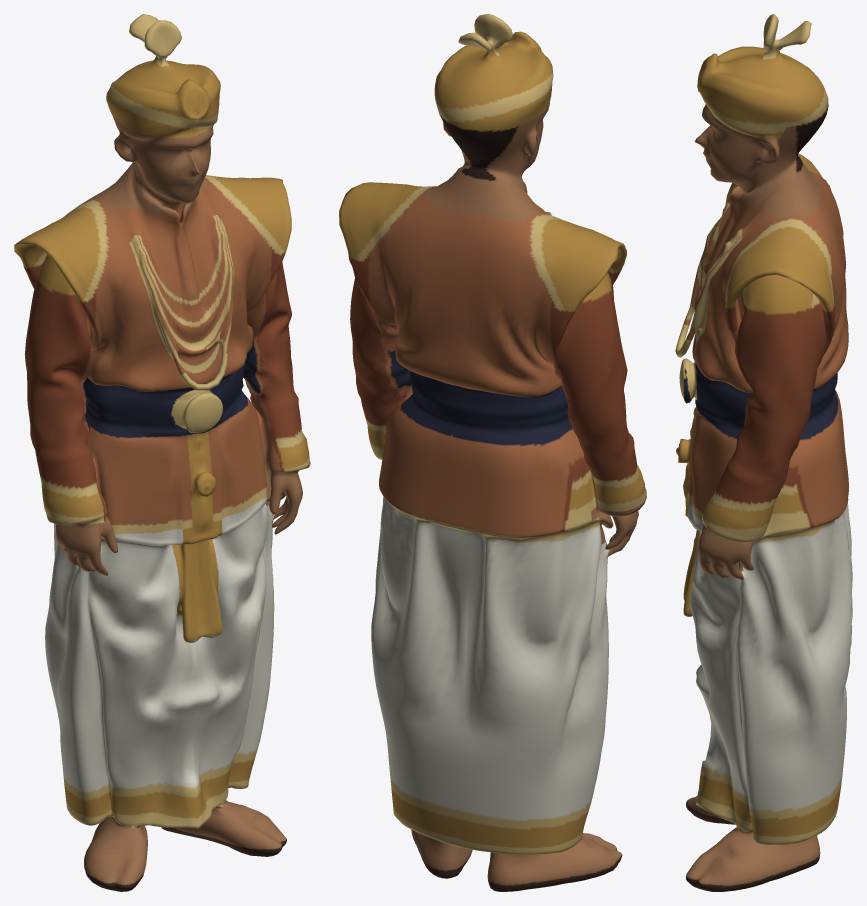
Rendered from wikalino-muslim-explorer.glb.
3 renders of one model, left to right at view 1: azimuth 30°, elevation 25°; view 2: azimuth 150°, elevation 25°; view 3: azimuth 270°, elevation 25°, orthographic. The views are drawn at different scales.
Parts seen in each view (by area): view 1: model; view 2: model; view 3: model.
Part boxes in pixels (x1,y1,x2,y2): model: (14,14,310,891); model: (339,14,646,891); model: (675,14,852,891).
Bounding box in the file's own units: 0.6255 × 1.89 × 0.3637.
